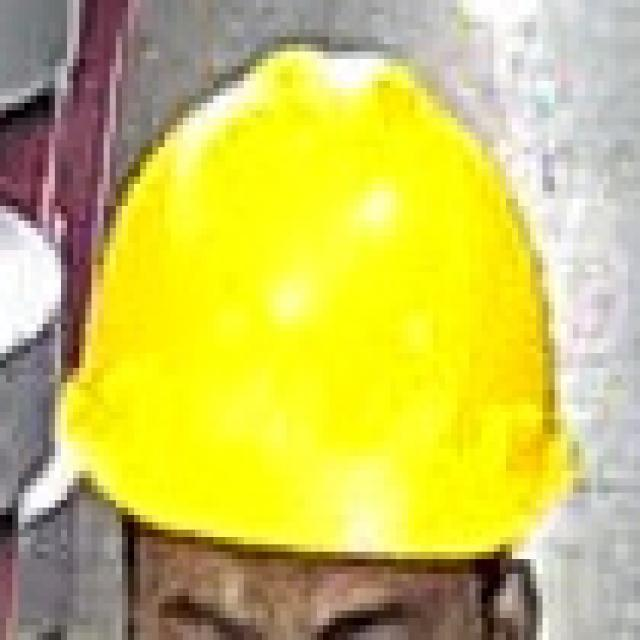yellow helmet: (45, 45, 587, 562)
